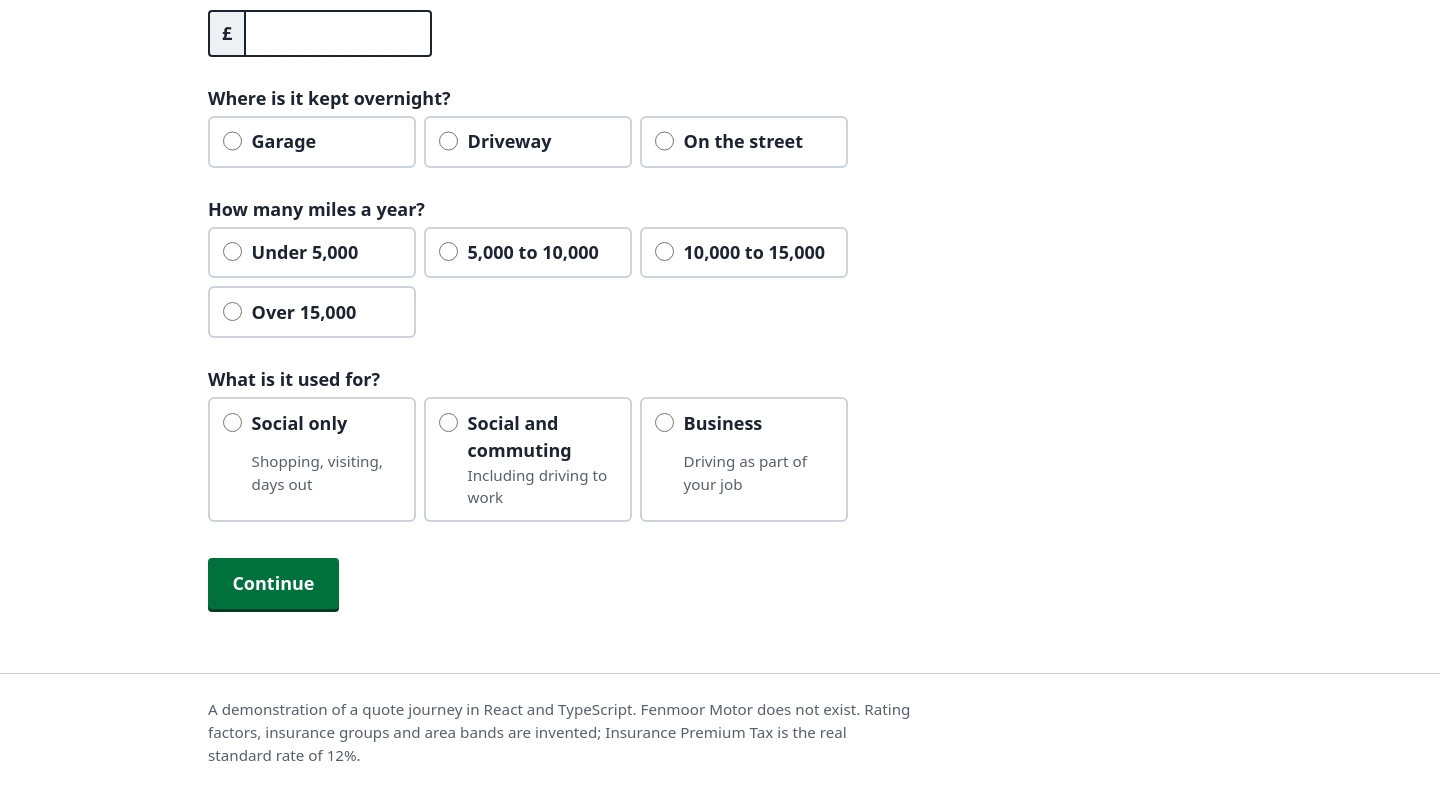
after a Continue that cannot go on › clears the old messages when the example answers are filled in
The image size is (1440, 799).
(page scrolled)
Click the button "Continue": click(273, 583) [208, 558, 339, 609]
(page scrolled)
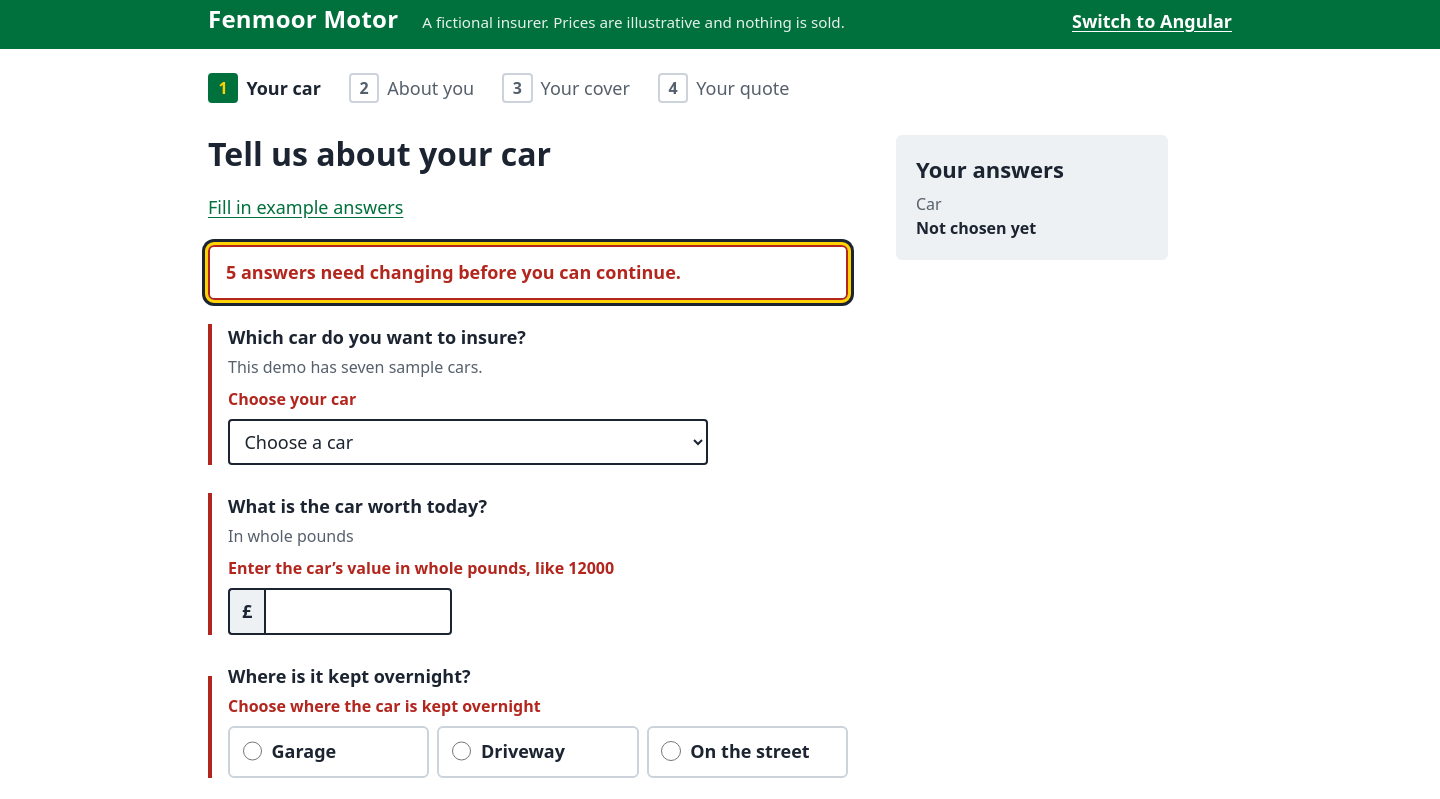
Expected: the message shows "5 answers need changing", [208, 245, 848, 300]
Click the button "Fill in example answers": click(306, 207) [208, 190, 403, 225]
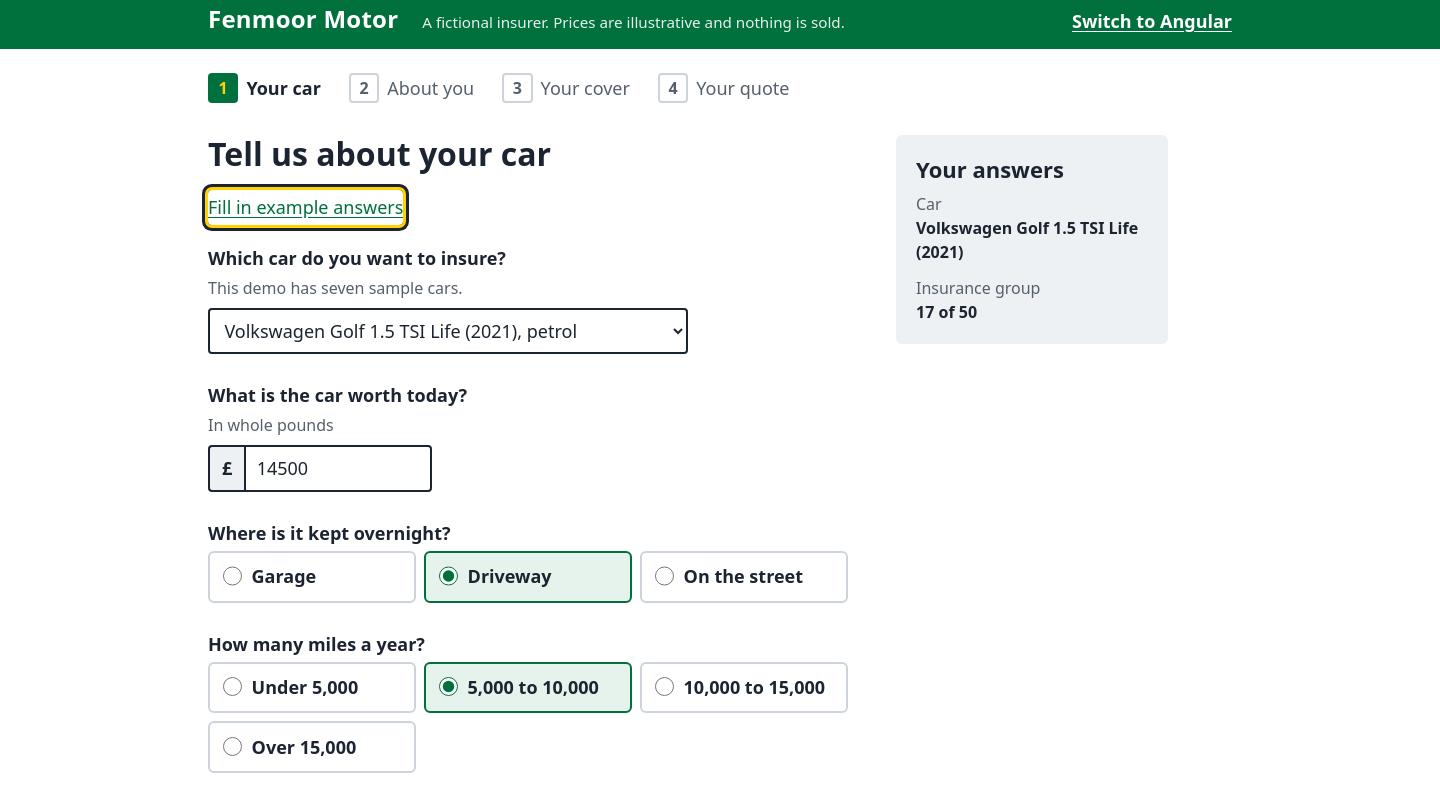
Expected: the message "5 answers need changing before you can continue." is gone
Expected: the text "Choose your car" is gone
